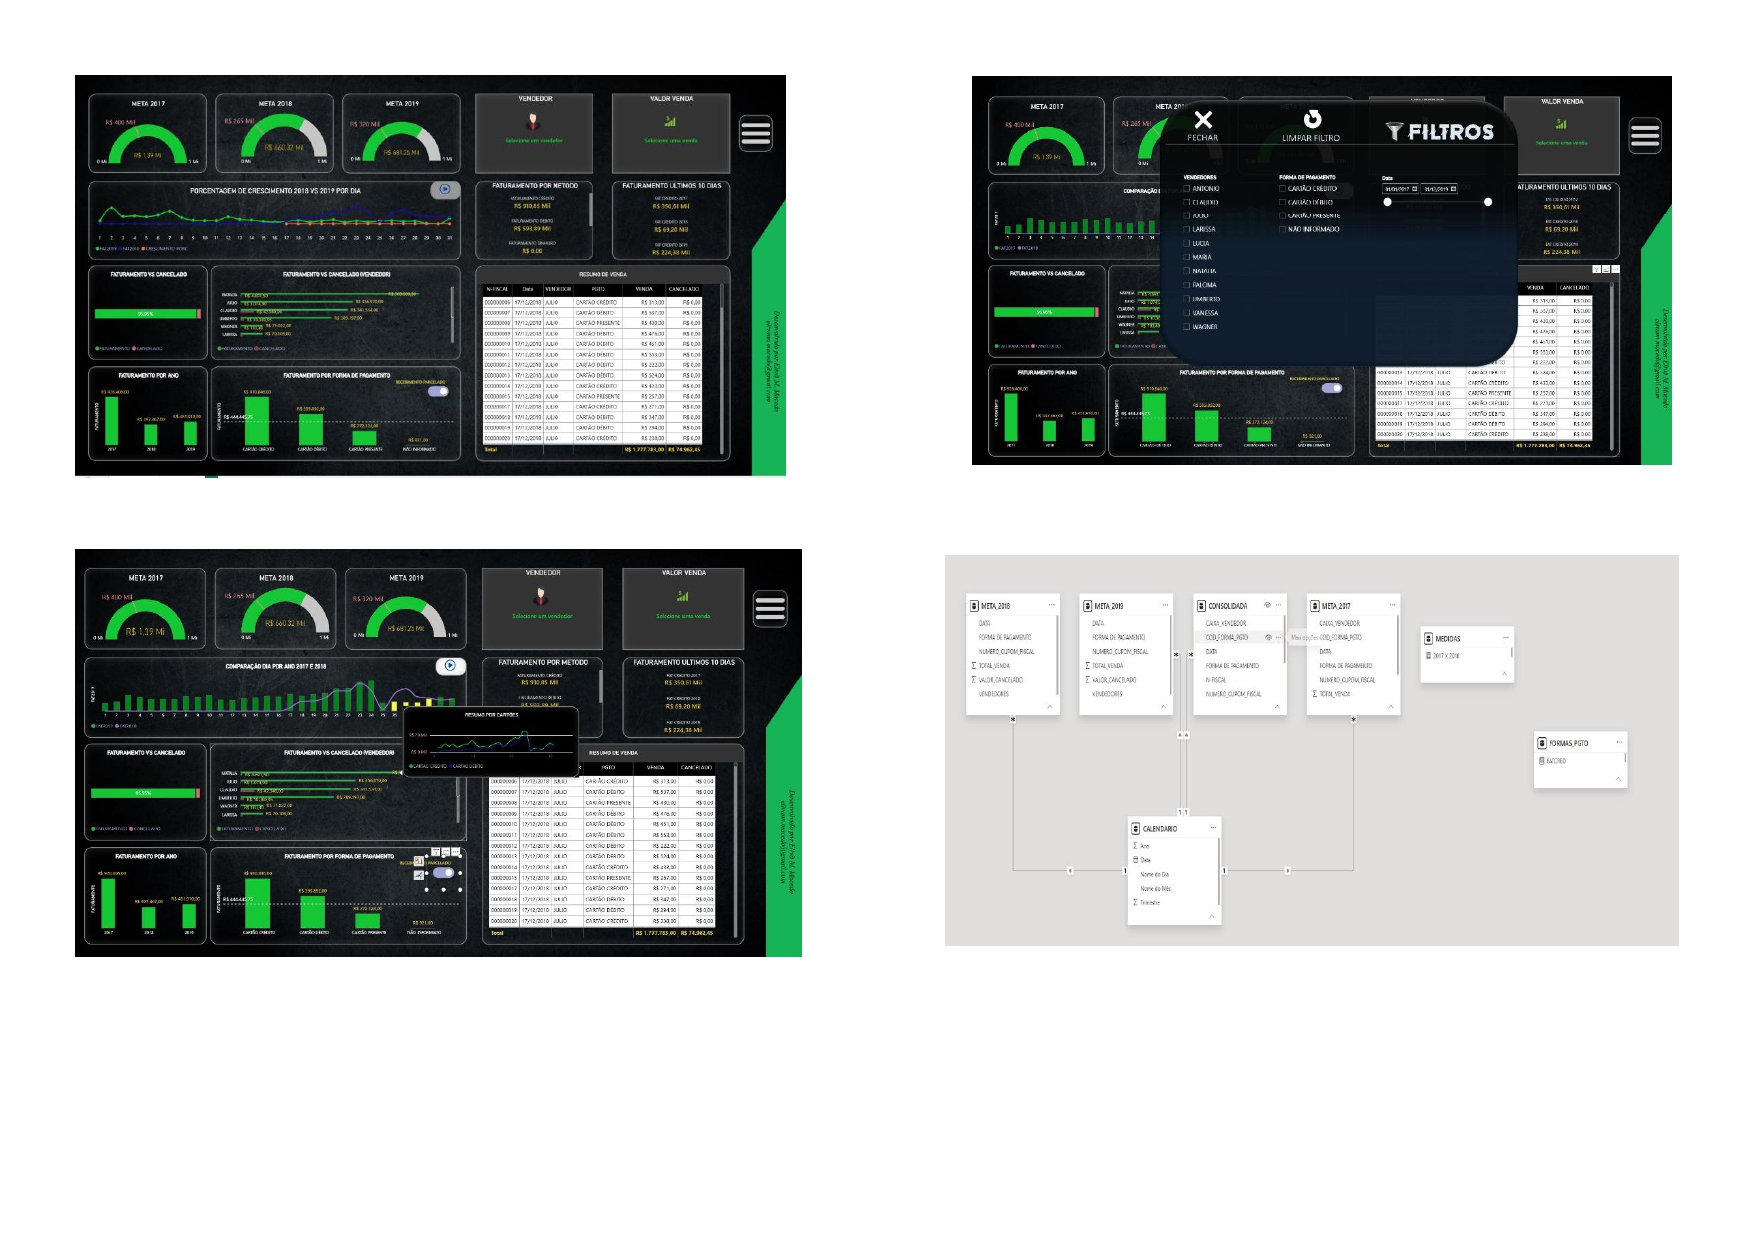

This screenshot's page, from the dashboard's own definition file:
{"tool":"powerbi","page":{"name":"Relatorio de Vendas","canvas":[1920,1080],"ordinal":0},"visuals":[{"type":"columnChart","title":"FATURAMENTO POR ANO","fields":{"Category":["CALENDARIO.Data.Variation.Hierarquia de datas.Ano","CALENDARIO.Data.Variation.Hierarquia de datas.Mês"],"Y":["MEDIDAS.FATURAMENTO"]},"box":[43.3,787.3,319.8,253.2],"z":0},{"type":"clusteredBarChart","title":"FATURAMENTO VS CANCELADO (VENDEDOR)","fields":{"Category":["CONSOLIDADA.VENDEDORES"],"Y":["MEDIDAS.FATURAMENTO","MEDIDAS.CANCELADO"]},"box":[370.9,516.7,670.5,253.3],"z":1000},{"type":"clusteredColumnChart","title":"FATURAMENTO POR FORMA DE PAGAMENTO","fields":{"Category":["CONSOLIDADA.FORMA DE PAGAMENTO"],"Y":["MEDIDAS.FATURAMENTO"]},"box":[371.4,787,670.9,253.4],"z":2000},{"type":"hundredPercentStackedBarChart","title":"FATURAMENTO VS CANCELADO","fields":{"Y":["MEDIDAS.FATURAMENTO","MEDIDAS.CANCELADO"]},"box":[43.3,517,319.8,253.2],"z":3000},{"type":"advancedtoggleswitch","fields":{"Category":["CONSOLIDADA.RECEBIMENTO"]},"box":[937.2,810,87.5,87.5],"z":4000},{"type":"cardVisual","fields":{"Data":["Min(CONSOLIDADA.RECEBIMENTO)"]},"box":[850.5,798.9,173.2,55.5],"z":5000},{"type":"tableEx","title":"RESUMO DE VENDA","fields":{"Values":["CONSOLIDADA.N-FISCAL","CALENDARIO.Data","CONSOLIDADA.VENDEDORES","CONSOLIDADA.FORMA DE PAGAMENTO","MEDIDAS.FATURAMENTO","MEDIDAS.CANCELADO"]},"box":[1081,516.8,684.8,523.7],"z":6000},{"type":"lineClusteredColumnComboChart","title":"COMPARAÇÃO DIA POR ANO 2017 E 2018","fields":{"Category":["CALENDARIO.Data.Variation.Hierarquia de datas.Dia"],"Y":["MEDIDAS.FAT2017"],"Y2":["MEDIDAS.FAT2018"]},"box":[43.2,289.5,998.2,213.1],"z":7000},{"type":"image","box":[960,289,81,48],"z":10000},{"type":"gauge","title":"META 2017","fields":{"MaxValue":["MEDIDAS.MAXIMO"],"MinValue":["MEDIDAS.MINIMO"],"TargetValue":["MEDIDAS.META2017"],"Y":["MEDIDAS.FAT2017"]},"box":[44.5,56.3,317,213.4],"z":11000},{"type":"gauge","title":"META 2018","fields":{"MaxValue":["MEDIDAS.MAXIMO"],"MinValue":["MEDIDAS.MINIMO"],"TargetValue":["MEDIDAS.META218"],"Y":["MEDIDAS.FAT2018"]},"box":[384.4,56.3,317.2,213.4],"z":12000},{"type":"gauge","title":"META 2019","fields":{"MaxValue":["MEDIDAS.MAXIMO"],"MinValue":["MEDIDAS.MINIMO"],"TargetValue":["MEDIDAS.META2019"],"Y":["MEDIDAS.FAT2019"]},"box":[724.3,56.3,317,213.8],"z":13000},{"type":"cardVisual","title":"FATURAMENTO POR METODO","fields":{"Data":["FORMAS_PGTO.FATCRED","FORMAS_PGTO.FATDEBITO","FORMAS_PGTO.FATURAMENTO DINHEIRO","FORMAS_PGTO.FATURAMENTO CARTÃO PRESENTE","FORMAS_PGTO.FATURAMENTO PIX","FORMAS_PGTO.FATURAMENTO METODO NAO INFORMADO"]},"box":[1081,289.5,317,213.4],"z":14000},{"type":"cardVisual","title":"FATURAMENTO ULTIMOS 10 DIAS","fields":{"Data":["FORMAS_PGTO.FATCREDITO2017","FORMAS_PGTO.FATCREDITO2018","FORMAS_PGTO.FATCREDITO2019"]},"box":[1448.6,289.5,317.2,213.4],"z":15000},{"type":"cardVisual","title":"VENDEDOR","fields":{"Data":["FORMAS_PGTO.FILTRO VENDEDOR"]},"box":[1081,56.3,317,213.8],"z":16000},{"type":"image","box":[1209.5,92.9,58.3,70.2],"z":17000},{"type":"cardVisual","title":"VALOR VENDA","fields":{"Data":["FORMAS_PGTO.FILTRO VENDA"]},"box":[1448.6,56.3,317,213.8],"z":18000},{"type":"image","box":[1576.1,92.9,59.9,70],"z":19000},{"type":"image","box":[1788.6,113.6,90.9,98.8],"z":21000},{"type":"image","box":[1818.2,215.4,101.8,864.6],"z":28001},{"type":"image","box":[1834,628.5,86,300.4],"z":28002}]}

Visuals, with their boxes on the page's 1920x1080 design canvas (x1, y1, x2, y2). These are canvas units, not pixel positions in the 1755x1241 screenshot, which may show the page scaled, cropped or inside an application window:
"FATURAMENTO POR ANO" columnChart: 43:787:363:1040
"FATURAMENTO VS CANCELADO (VENDEDOR)" clusteredBarChart: 371:517:1041:770
"FATURAMENTO POR FORMA DE PAGAMENTO" clusteredColumnChart: 371:787:1042:1040
"FATURAMENTO VS CANCELADO" hundredPercentStackedBarChart: 43:517:363:770
advancedtoggleswitch - CONSOLIDADA.RECEBIMENTO: 937:810:1025:898
cardVisual - Min(CONSOLIDADA.RECEBIMENTO): 850:799:1024:854
"RESUMO DE VENDA" tableEx: 1081:517:1766:1040
"COMPARAÇÃO DIA POR ANO 2017 E 2018" lineClusteredColumnComboChart: 43:290:1041:503
image: 960:289:1041:337
"META 2017" gauge: 44:56:362:270
"META 2018" gauge: 384:56:702:270
"META 2019" gauge: 724:56:1041:270
"FATURAMENTO POR METODO" cardVisual: 1081:290:1398:503
"FATURAMENTO ULTIMOS 10 DIAS" cardVisual: 1449:290:1766:503
"VENDEDOR" cardVisual: 1081:56:1398:270
image: 1210:93:1268:163
"VALOR VENDA" cardVisual: 1449:56:1766:270
image: 1576:93:1636:163
image: 1789:114:1880:212
image: 1818:215:1920:1080
image: 1834:628:1920:929
